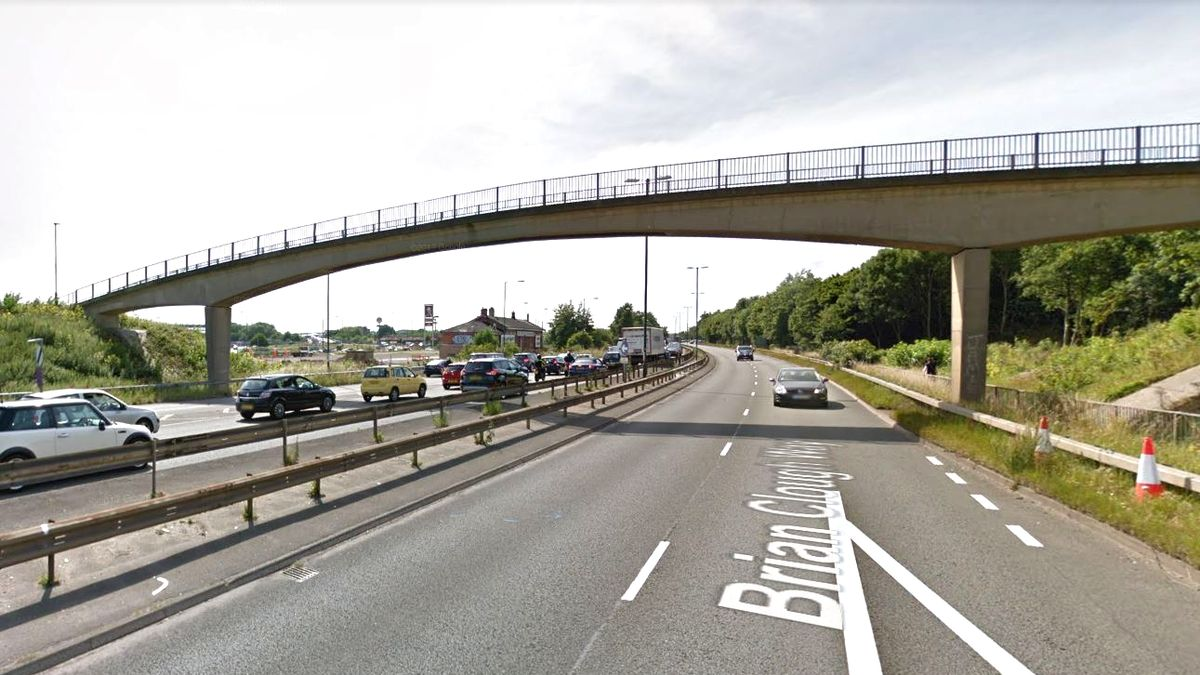bridge: (79, 119, 1195, 395)
